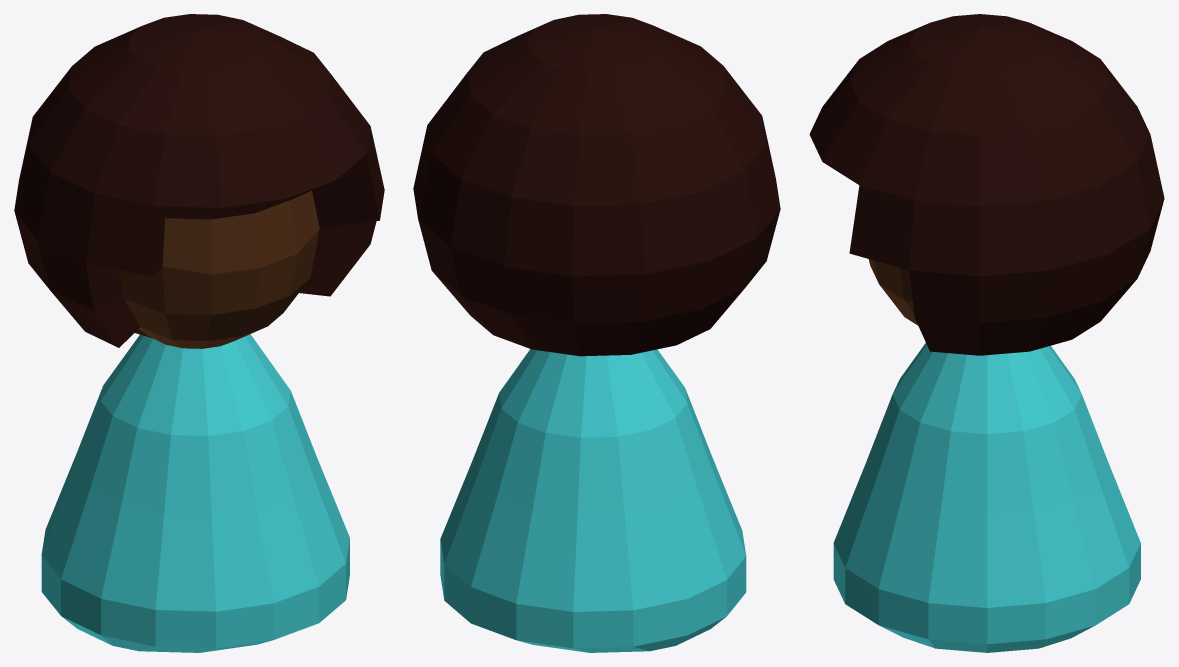
File: afropeep.fbx
The picture shows the model from 3 angles, left to right: view 1: azimuth 30°, elevation 25°; view 2: azimuth 150°, elevation 25°; view 3: azimuth 270°, elevation 25°; orthographic projection.
Visible parts, largest first — view 1: Sphere; view 2: Sphere; view 3: Sphere.
Part boxes in pixels (bbox=[...]): Sphere: bbox=[14, 14, 384, 652]; Sphere: bbox=[413, 14, 780, 652]; Sphere: bbox=[809, 14, 1164, 652].
Size of the model in its own units: 169 by 286 by 163.
